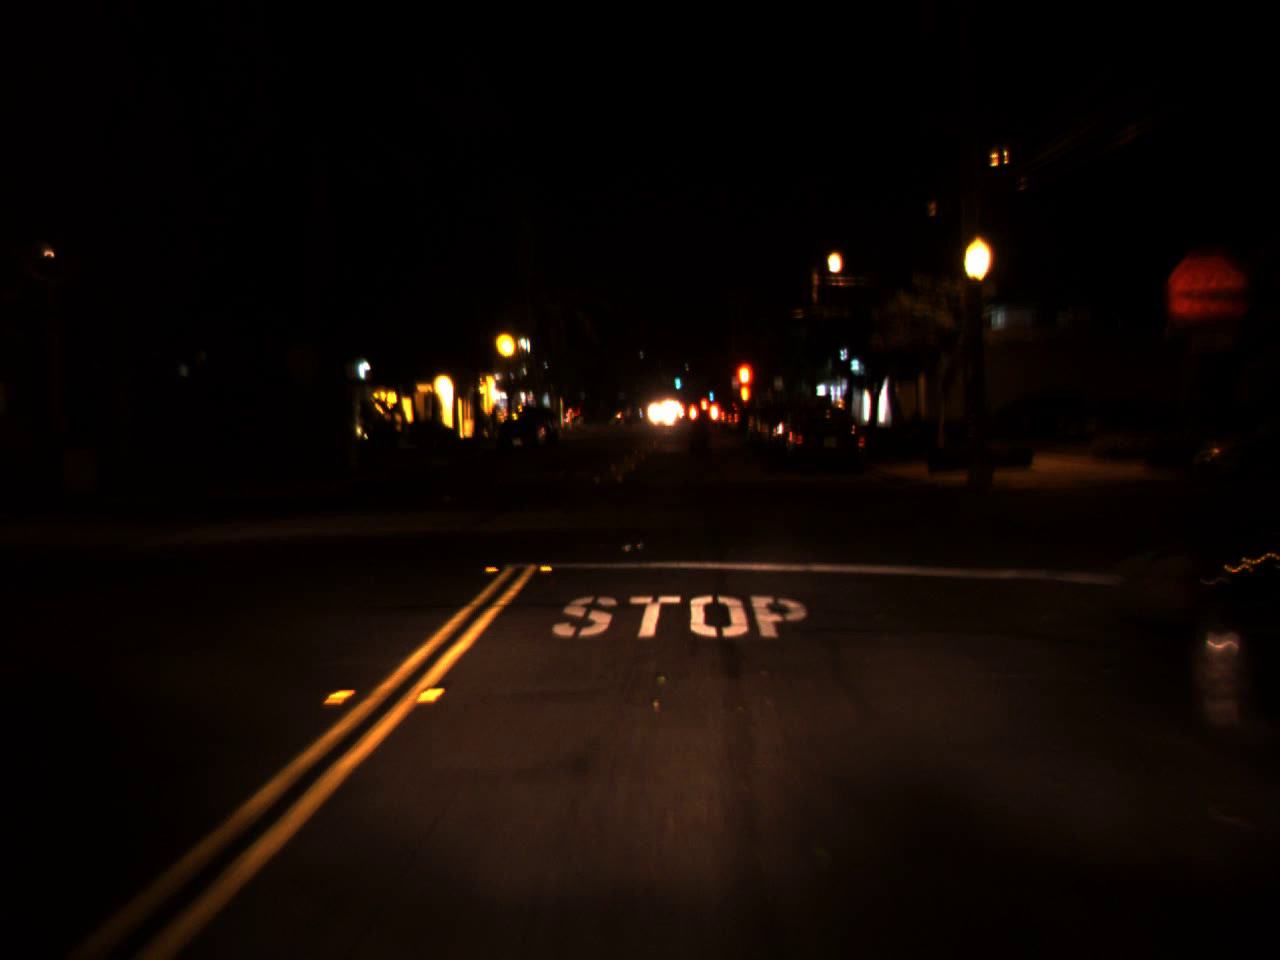go: (673, 369, 682, 390), (707, 385, 714, 403)
stop: (735, 364, 753, 396)
